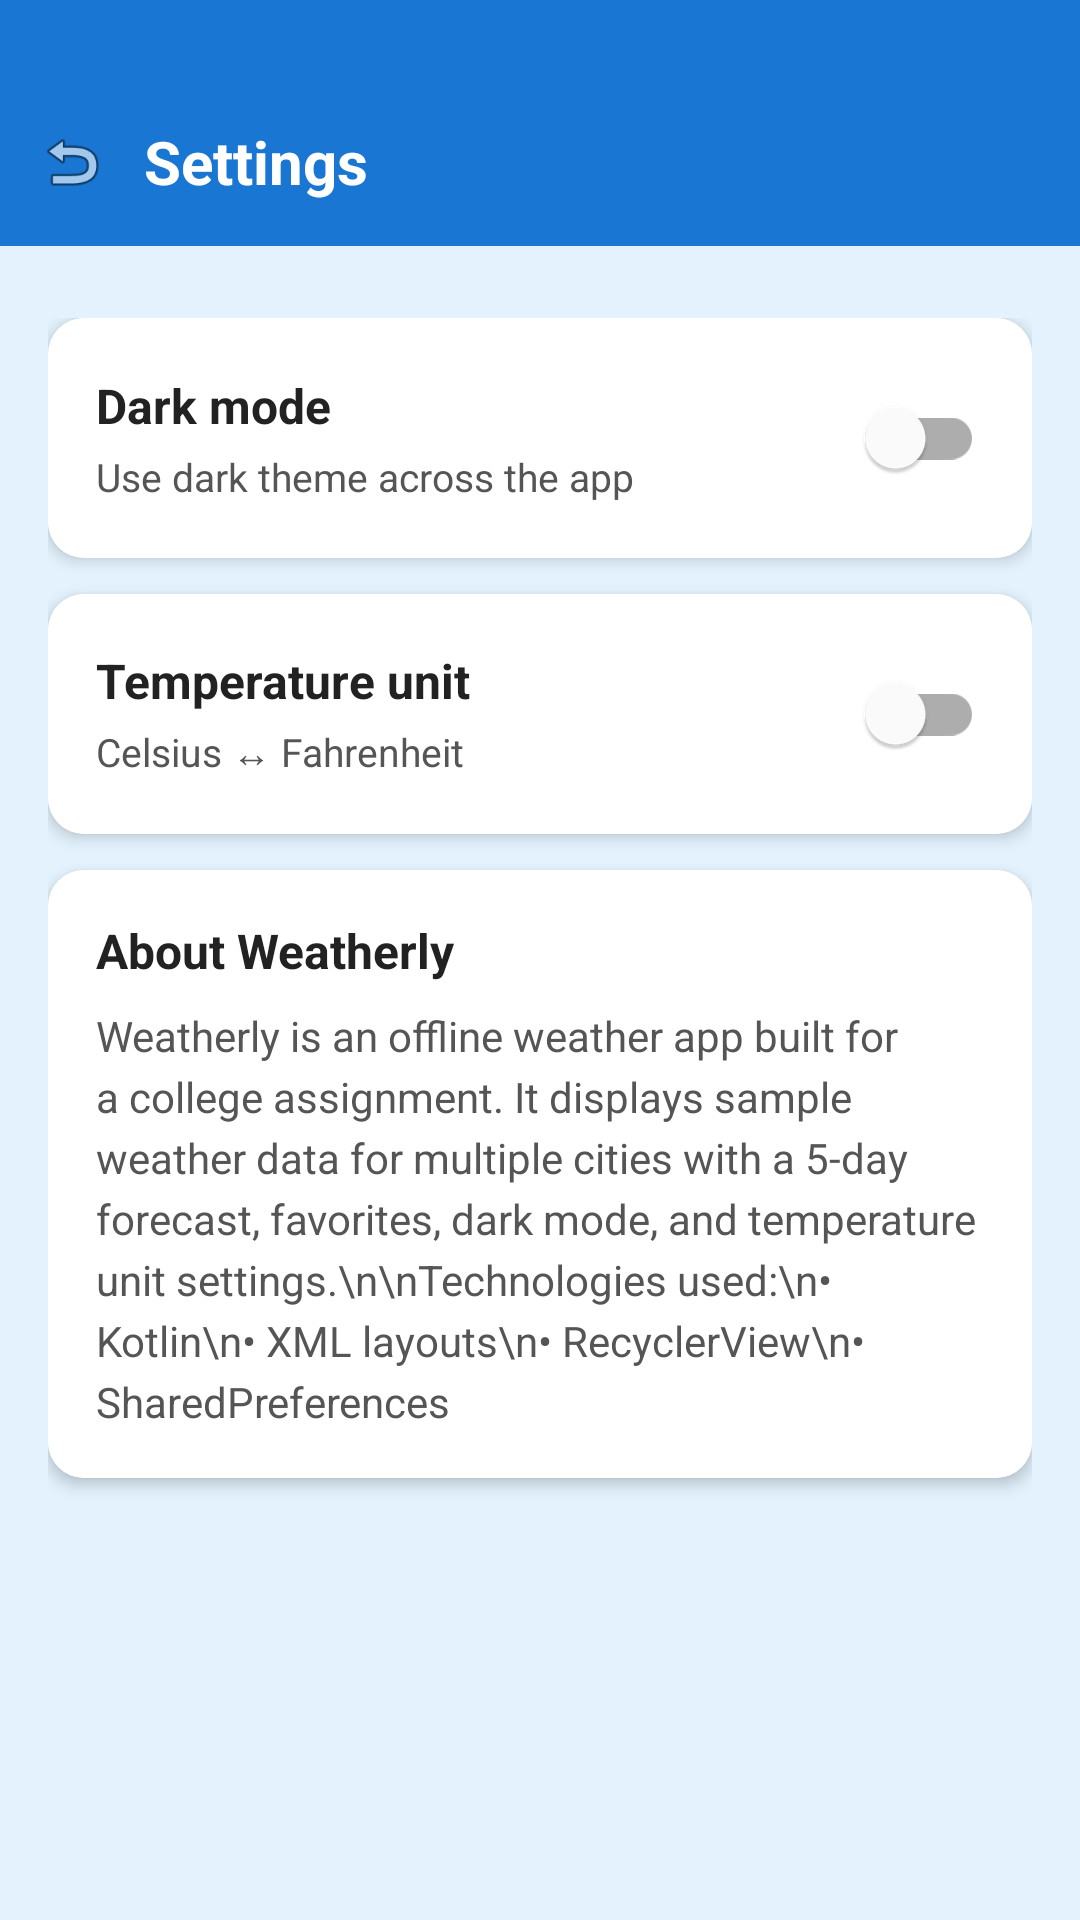

Screen size 1080 x 1920. Icon name, then its box in pixels as rect(x1, y1, x2, y2):
Back: rect(47, 139, 99, 186)
